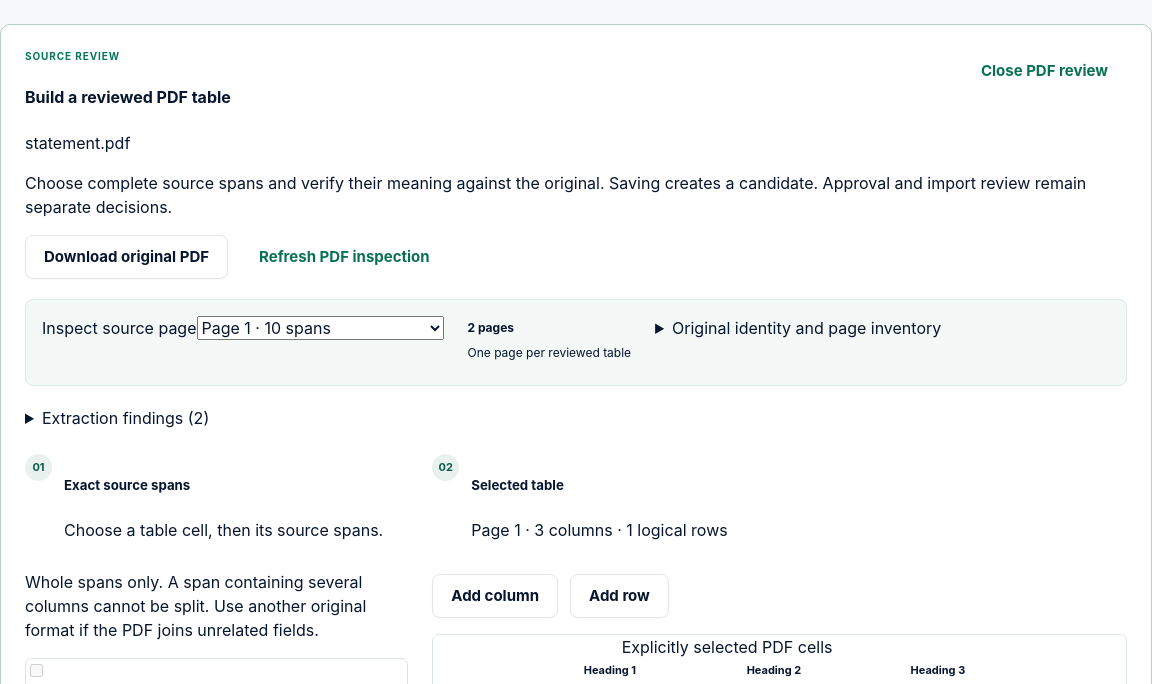
Scenario: reviewed PDF source selections › clears prior source and review controls after access/service failure 401
Click the button "Refresh PDF inspection".
click(344, 256)  # box [240,234,449,278]
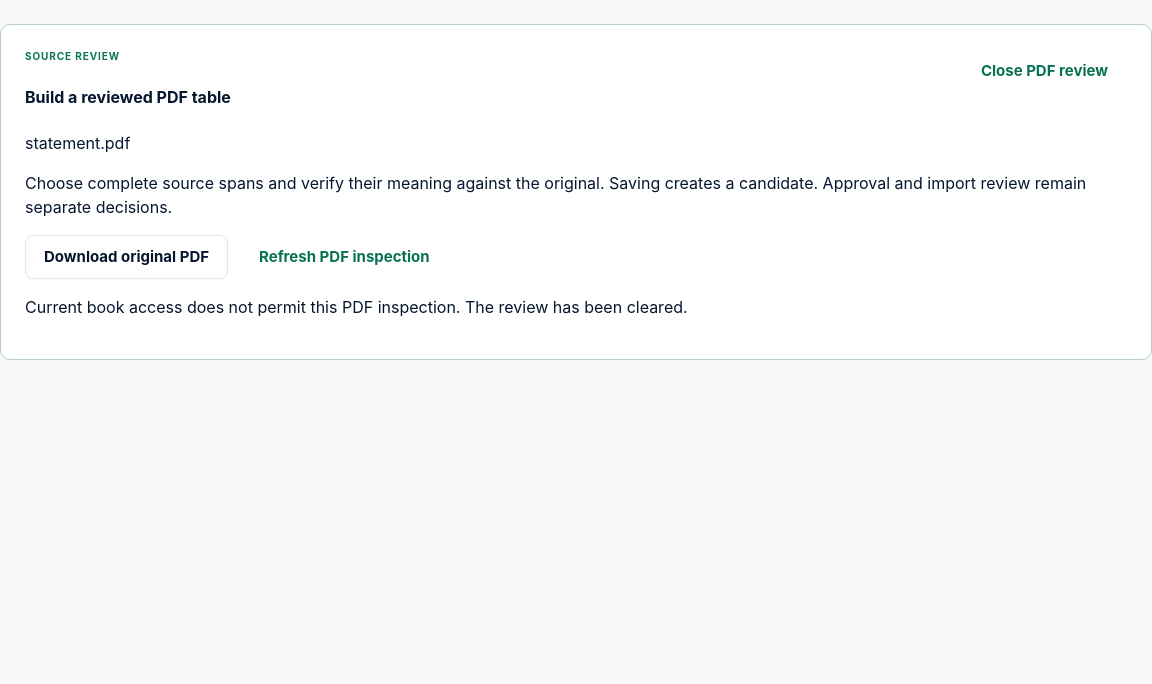
Check: the message is shown, box [25,296,688,316]
Check: the text "Explicitly selected PDF cells" is gone
